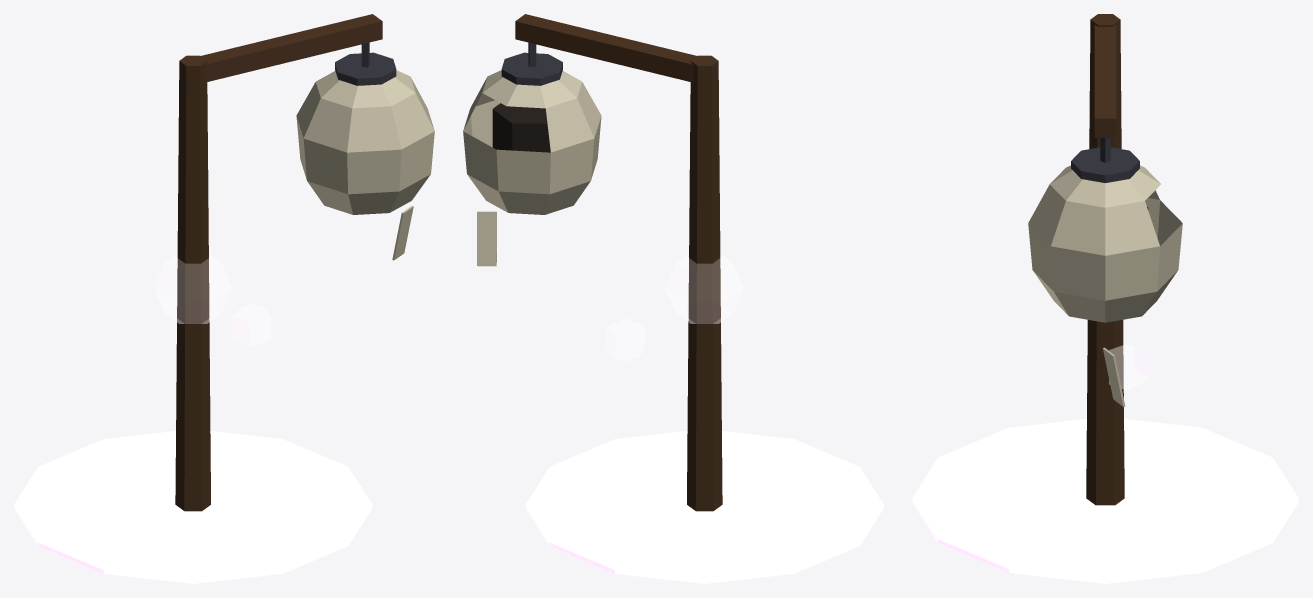
Rendered from prop_keep_lamp.glb.
3 views of the same model, side by side, from view 1: azimuth 30°, elevation 25°; view 2: azimuth 150°, elevation 25°; view 3: azimuth 270°, elevation 25° (orthographic). The views are drawn at different scales.
Parts seen in each view (by area): view 1: Glow, prop_keep_lamp; view 2: Glow, prop_keep_lamp; view 3: Glow, prop_keep_lamp.
Boxes of the visible parts, x1,y1,x2,y2 form: Glow: [14, 254, 372, 583]; prop_keep_lamp: [175, 14, 434, 511]; Glow: [525, 254, 883, 583]; prop_keep_lamp: [463, 14, 722, 511]; Glow: [912, 344, 1298, 583]; prop_keep_lamp: [1028, 14, 1182, 505].
Bounding box in the file's own units: 1.13 × 1.25 × 0.9.
